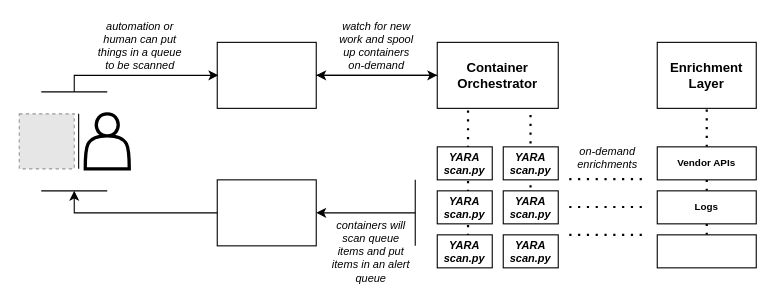
This 776x303 diagram has some shape labels left out. Grey dashed boxes stand in for pictures. Here are the shapes that lost their labels. From the top down, the centre of each, then its label:
the point at 266,74: Submission Queue
the point at 266,212: Alert Queue
the point at 706,251: Misc Data Sources
